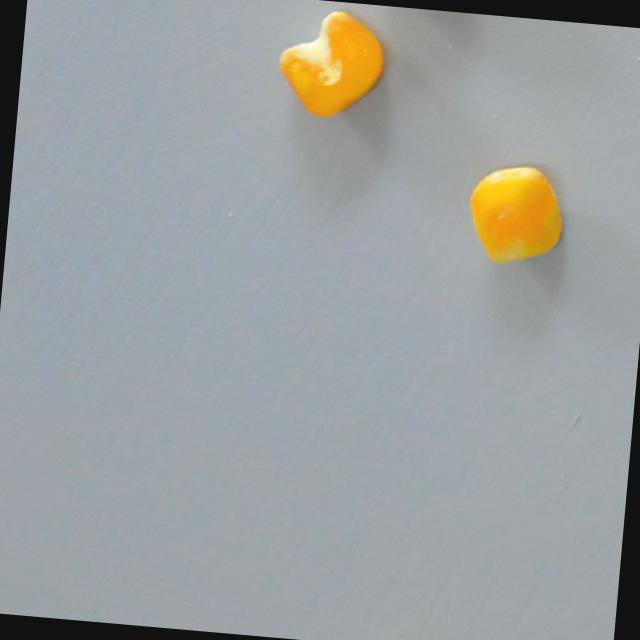no_canjicado: (273, 6, 389, 121), (463, 162, 566, 267)
